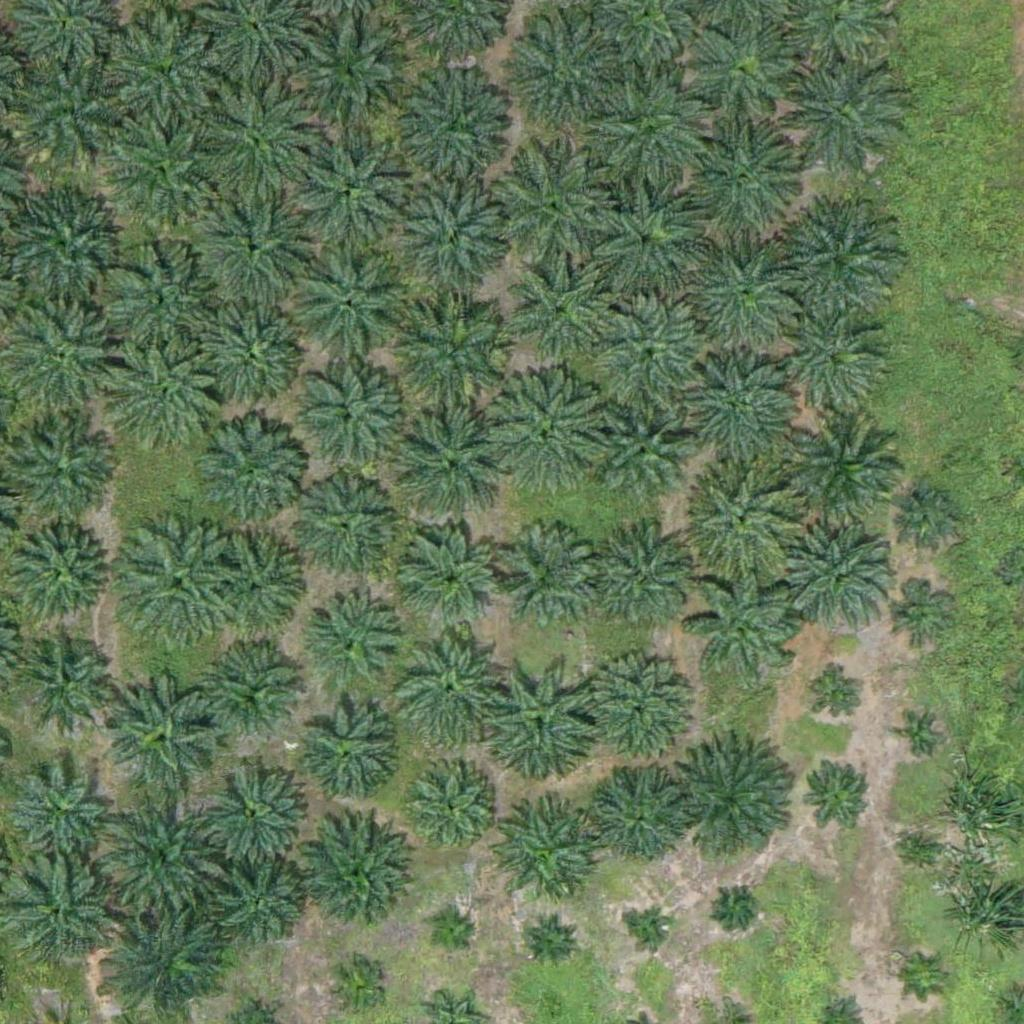Kelapa_Sawit: (1, 182, 126, 308), (105, 338, 230, 464), (98, 240, 223, 366), (190, 77, 315, 203), (192, 181, 317, 307), (188, 288, 313, 414), (184, 409, 309, 535), (286, 359, 411, 485), (286, 242, 411, 368), (396, 63, 521, 189), (392, 289, 517, 415), (391, 405, 516, 531), (489, 145, 614, 271), (496, 13, 621, 139), (585, 76, 710, 202), (579, 179, 704, 305), (587, 301, 712, 427), (674, 352, 799, 478), (682, 238, 807, 364), (677, 117, 802, 243), (779, 55, 904, 181), (775, 200, 900, 326), (786, 420, 911, 546), (480, 659, 605, 785), (388, 625, 513, 751), (113, 520, 238, 646), (98, 790, 223, 916), (292, 125, 417, 250), (292, 13, 417, 138), (392, 176, 517, 301), (487, 372, 612, 497), (676, 740, 801, 865), (297, 821, 410, 935), (105, 11, 218, 124), (14, 64, 127, 177), (688, 567, 801, 680), (577, 653, 690, 766), (6, 859, 119, 972), (198, 751, 310, 865), (108, 671, 220, 785), (2, 420, 114, 533), (785, 527, 897, 640), (689, 462, 801, 575), (486, 803, 598, 916), (113, 117, 213, 218), (512, 263, 612, 364), (786, 315, 886, 416), (587, 764, 687, 865), (593, 529, 693, 630), (492, 528, 592, 629), (402, 531, 502, 632), (401, 758, 501, 859), (290, 478, 390, 579), (302, 594, 402, 695), (204, 527, 304, 628), (10, 760, 110, 861), (693, 25, 793, 125), (294, 703, 394, 803), (207, 642, 307, 742), (7, 522, 107, 622), (16, 630, 116, 730), (216, 862, 304, 950), (597, 411, 684, 500), (800, 756, 875, 831), (324, 955, 387, 1018), (887, 583, 950, 646), (897, 485, 960, 548), (814, 673, 864, 724), (525, 916, 575, 966), (426, 911, 476, 961), (909, 958, 947, 996), (716, 886, 754, 924), (633, 912, 670, 950), (900, 720, 937, 757), (904, 830, 941, 867)
